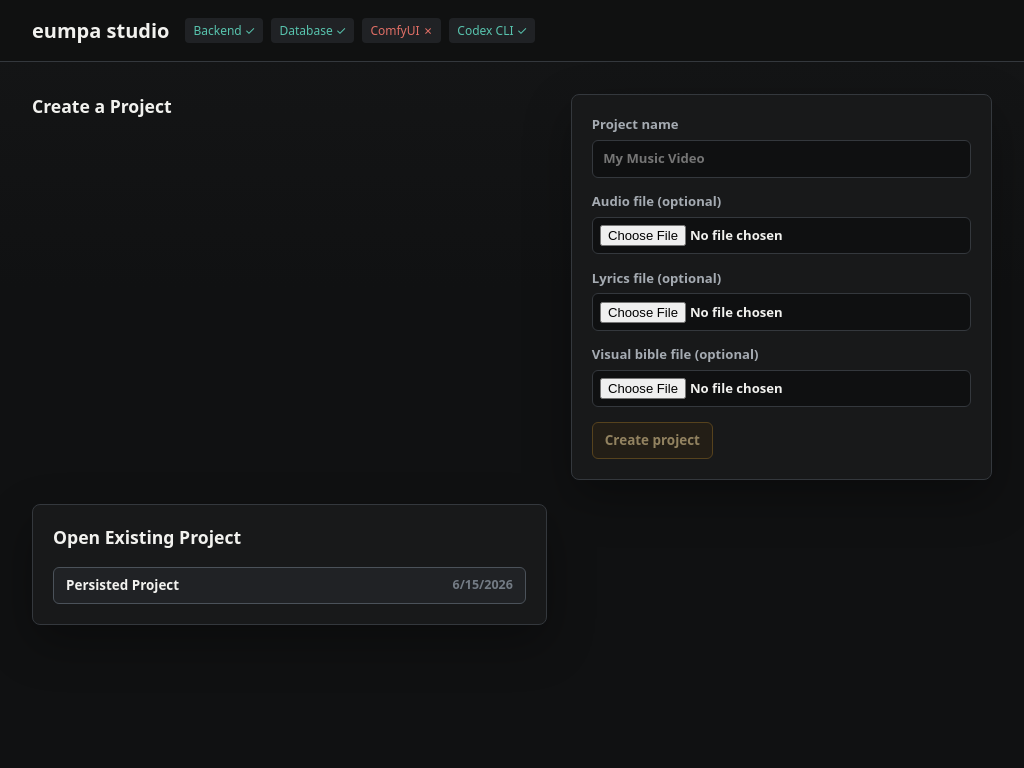
Test: App workspace flow › shows empty-workspace actions for alignment and manual shot creation
The image size is (1024, 768).
Step 1. Click the button "Persisted Project 6/15/2026" → coordinates (123, 585), box [53,567,526,604]
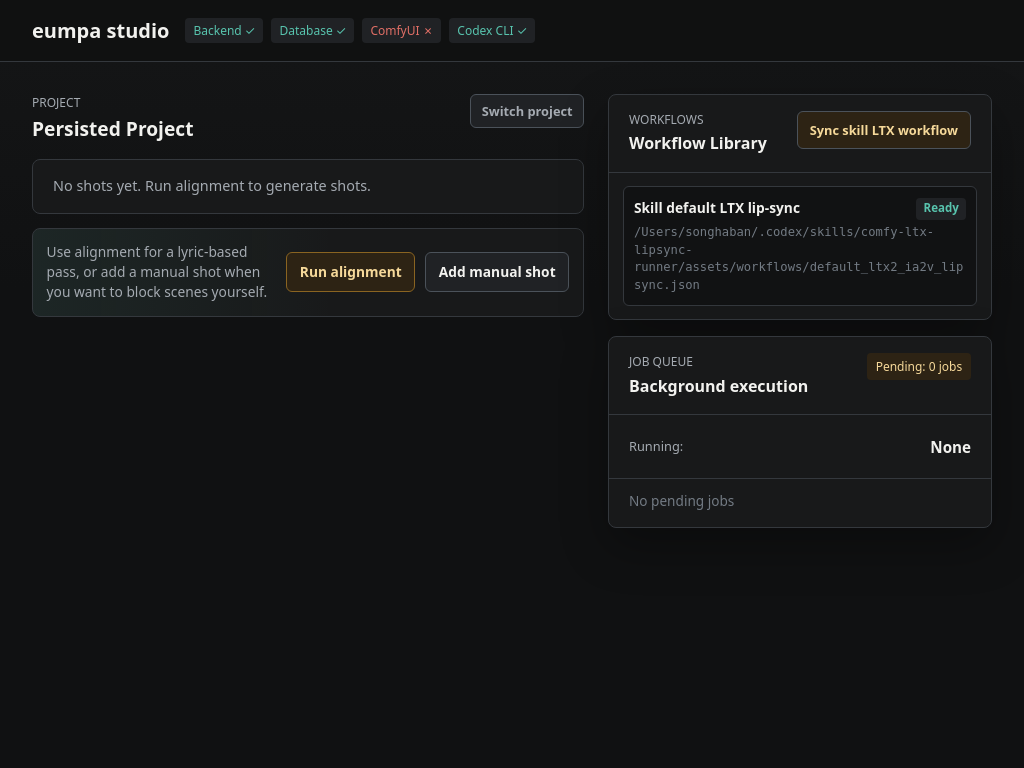
Check: the text "No shots yet. Run alignment to generate shots." is shown, box [32,159,584,214]
Check: the button "Run alignment" is shown, box [286,252,416,292]
Check: the button "Add manual shot" is shown, box [425,252,569,292]
